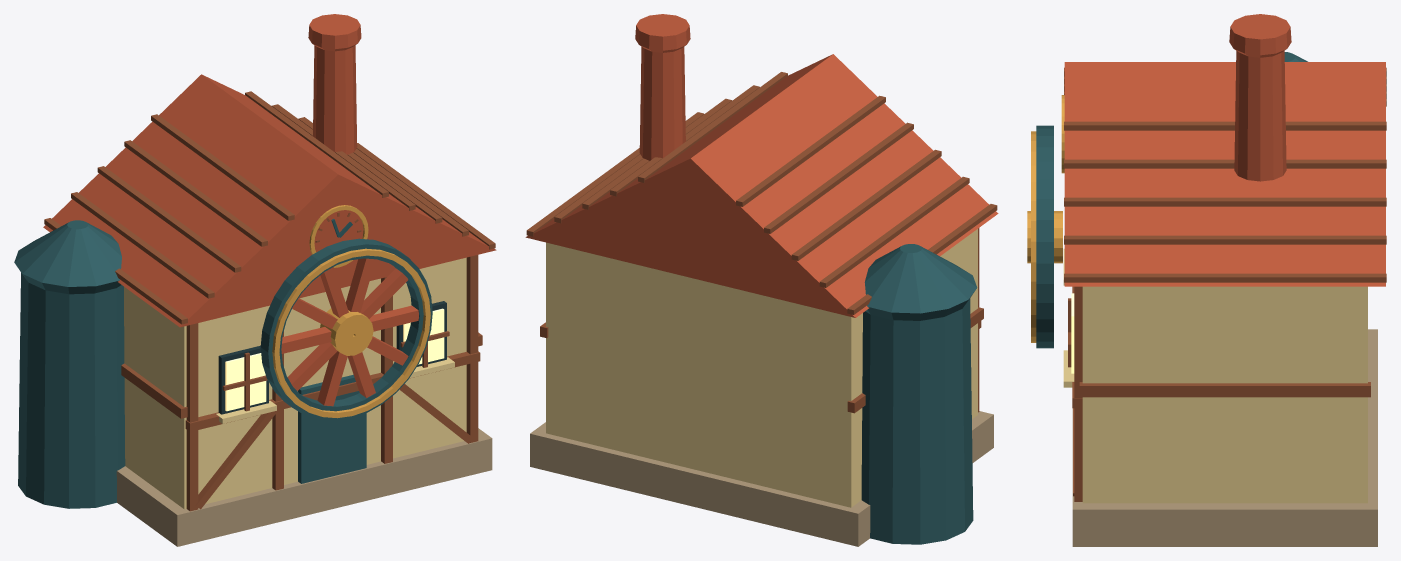
File: mill.glb
3 views of the same model, side by side, from view 1: azimuth 30°, elevation 25°; view 2: azimuth 150°, elevation 25°; view 3: azimuth 270°, elevation 25° (orthographic). The views are drawn at different scales.
Parts seen in each view (by area): view 1: LOD0, RotorLOD0; view 2: LOD0; view 3: LOD0, RotorLOD0.
Boxes of the visible parts, x1,y1,x2,y2 form: LOD0: (14,14,496,546); RotorLOD0: (260,238,432,420); LOD0: (525,14,998,546); LOD0: (1061,14,1386,546); RotorLOD0: (1027,125,1062,348).
Size of what is drawn, in the model's own units: 10.29 by 10.46 by 7.16.
